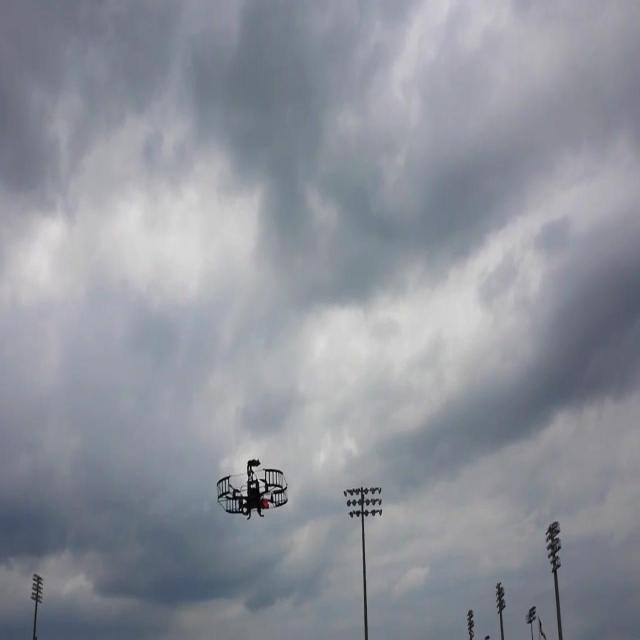drone: (215, 454, 290, 523)
